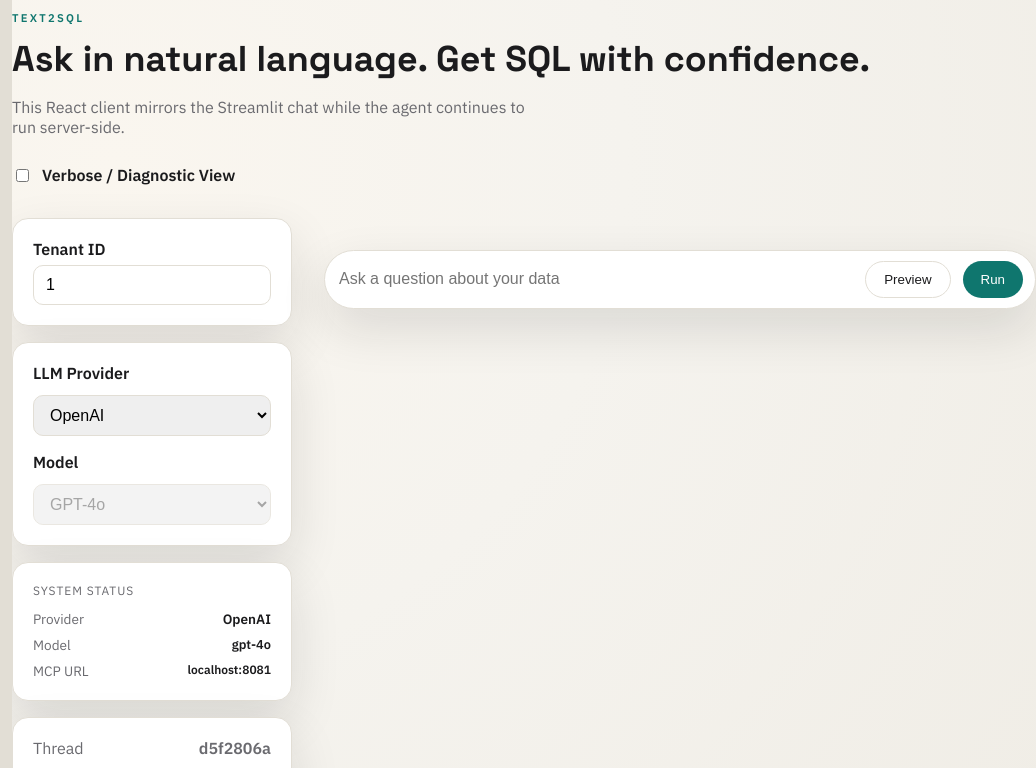
Test case: AgentChat observability › renders compact validation/completeness summary and expands SQL details
Type "summary footer" into the field with placeholder "Ask a question about your data" at [595, 279], box [337, 261, 853, 298]
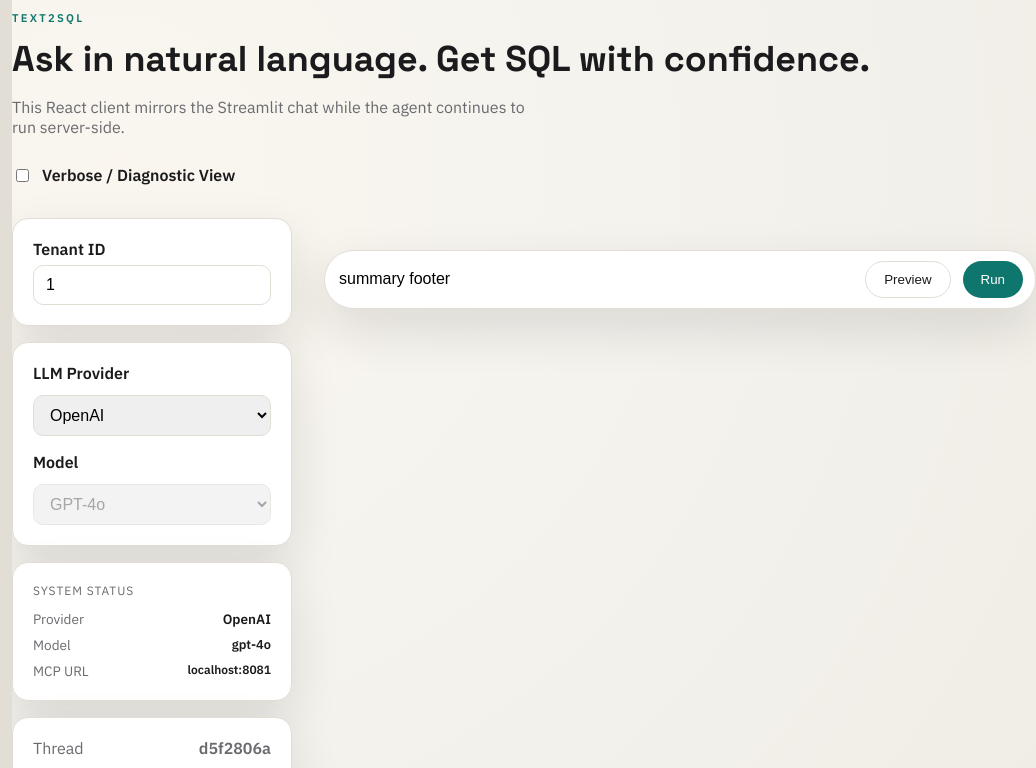
Submit the form with placeholder "ask a question", box [324, 250, 1035, 309]
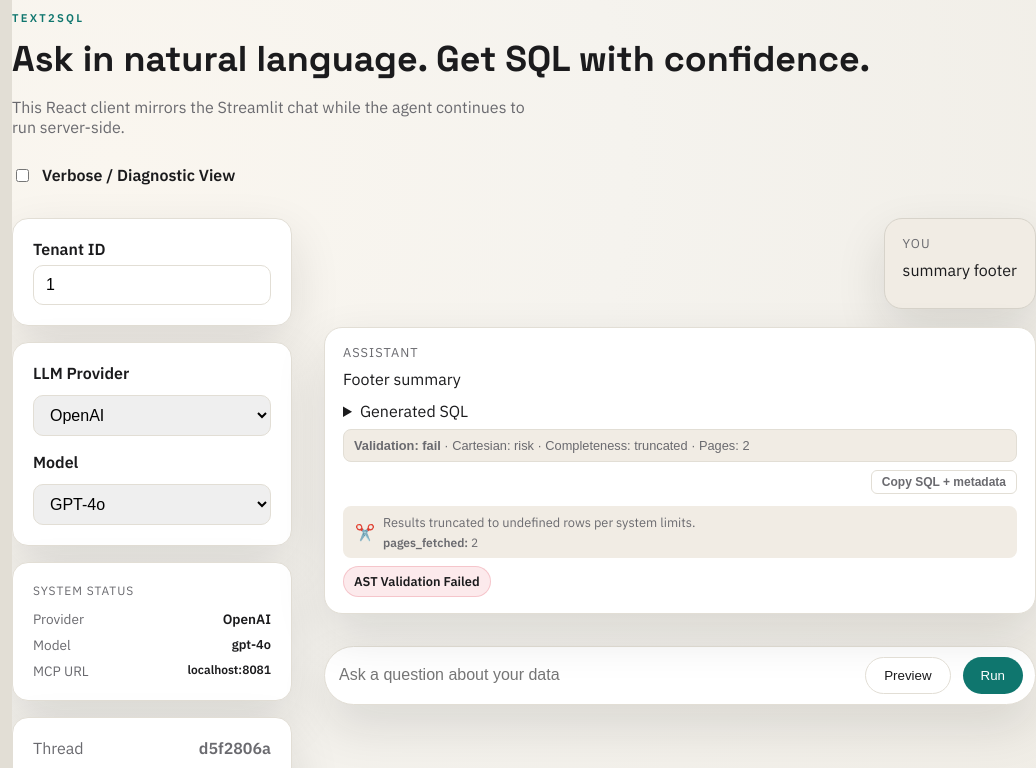
Expected: the text "Footer summary" is shown, [343, 369, 461, 389]
Expected: the button with test id "validation-completeness-summary" shows "Validation: fail"
Expected: the button with test id "validation-completeness-summary" shows "Cartesian: risk"
Click the button with test id "validation-completeness-summary" at [680, 445], box [343, 429, 1017, 462]
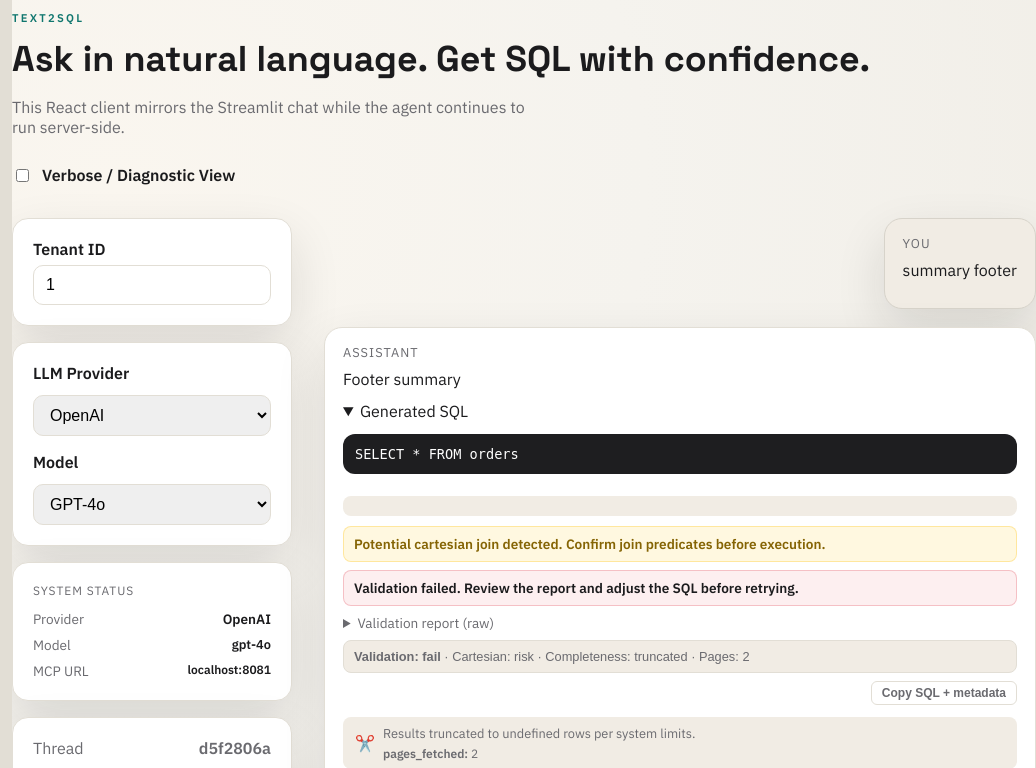
Expected: the element with test id "validation-key-signals" is shown, [343, 496, 1017, 516]
